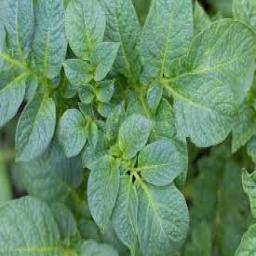Leaf: (186, 18, 256, 104), (161, 72, 241, 146), (139, 0, 194, 80), (134, 177, 189, 256), (15, 91, 57, 164), (88, 155, 119, 233), (138, 139, 185, 186), (112, 174, 137, 256), (119, 113, 152, 158), (57, 110, 88, 157), (91, 42, 121, 81), (63, 61, 95, 85)
